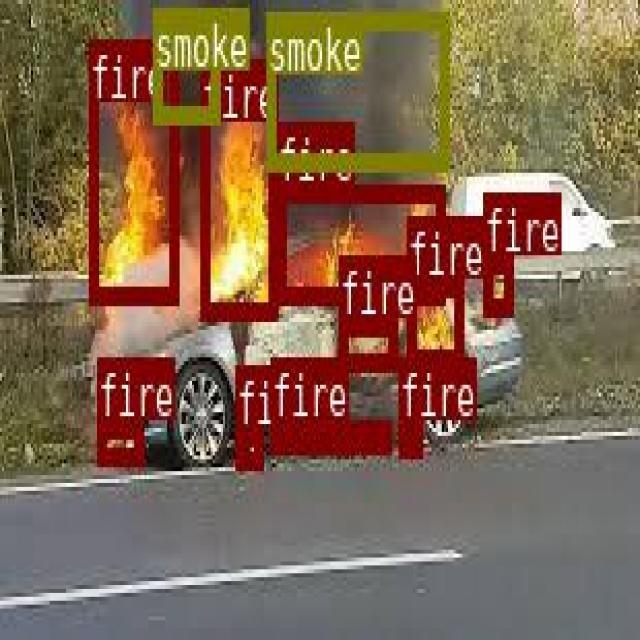fire: (88, 39, 177, 300), (199, 57, 275, 316), (276, 184, 443, 299), (407, 276, 462, 362), (270, 417, 389, 451), (337, 316, 395, 367), (95, 417, 141, 463), (481, 252, 510, 314), (235, 426, 262, 466), (398, 418, 421, 453)
smoke: (266, 9, 447, 169), (153, 5, 218, 118)
